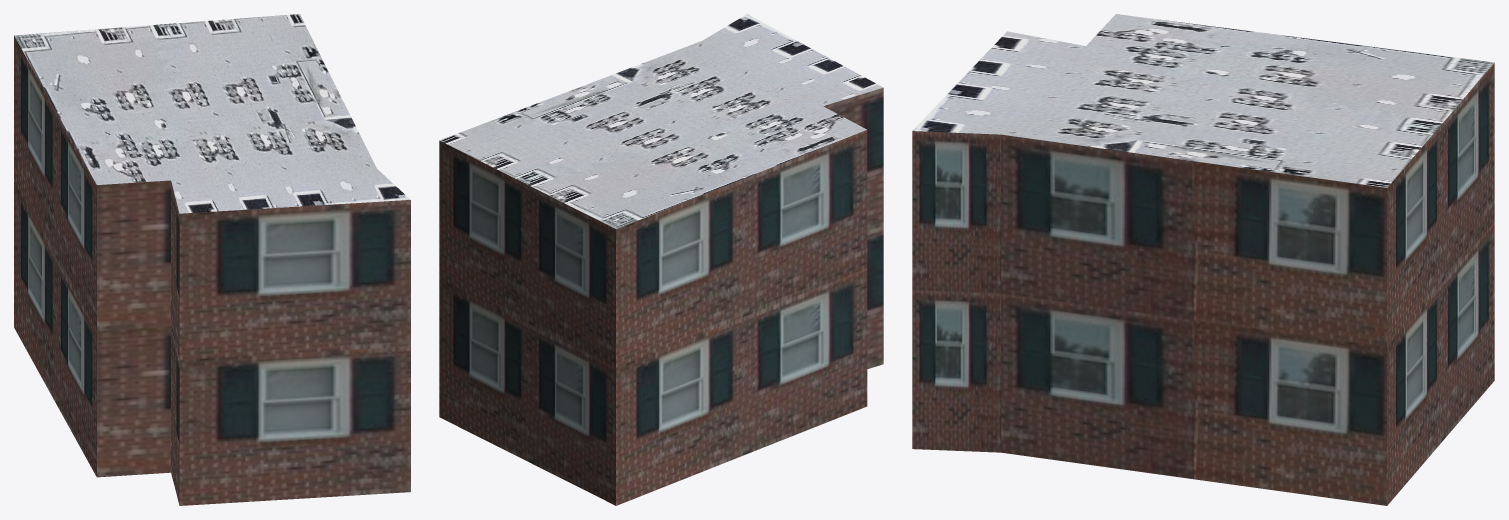
The model's file is ResTex__431.fbx.
The picture shows the model from 3 angles, left to right: view 1: azimuth 30°, elevation 25°; view 2: azimuth 150°, elevation 25°; view 3: azimuth 270°, elevation 25°; orthographic projection. The views are drawn at different scales.
Parts seen in each view (by area): view 1: CityEngineMaterial_14_m, CityEngineMaterial_4_m; view 2: CityEngineMaterial_14_m, CityEngineMaterial_4_m; view 3: CityEngineMaterial_14_m, CityEngineMaterial_4_m.
Part boxes in pixels (x1,y1,x2,y2): CityEngineMaterial_14_m: [14, 35, 410, 505]; CityEngineMaterial_4_m: [14, 14, 410, 213]; CityEngineMaterial_14_m: [439, 87, 883, 505]; CityEngineMaterial_4_m: [439, 14, 883, 228]; CityEngineMaterial_14_m: [912, 63, 1494, 505]; CityEngineMaterial_4_m: [912, 14, 1494, 187].
Bounding box in the file's own units: 7.04 × 6 × 9.96.
2 materials, 2 textured.
